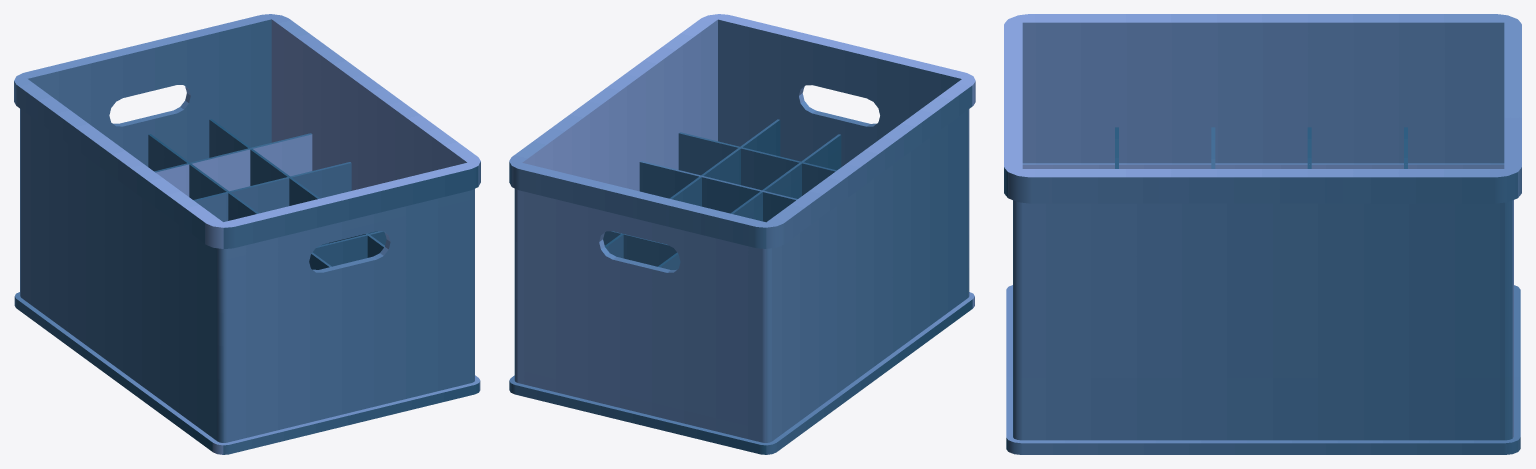
File: bottle_crate.glb
The picture shows the model from 3 angles, left to right: view 1: azimuth 30°, elevation 25°; view 2: azimuth 150°, elevation 25°; view 3: azimuth 270°, elevation 25°; orthographic projection. The views are drawn at different scales.
Visible parts, largest first — view 1: BottleCrate.001; view 2: BottleCrate.001; view 3: BottleCrate.001.
Boxes of the visible parts, x1,y1,x2,y2 form: BottleCrate.001: [14, 14, 480, 454]; BottleCrate.001: [509, 14, 975, 454]; BottleCrate.001: [1004, 14, 1521, 454].
Bounding box in the file's own units: 0.2568 × 0.2048 × 0.3441.
1 material, 1 textured.
